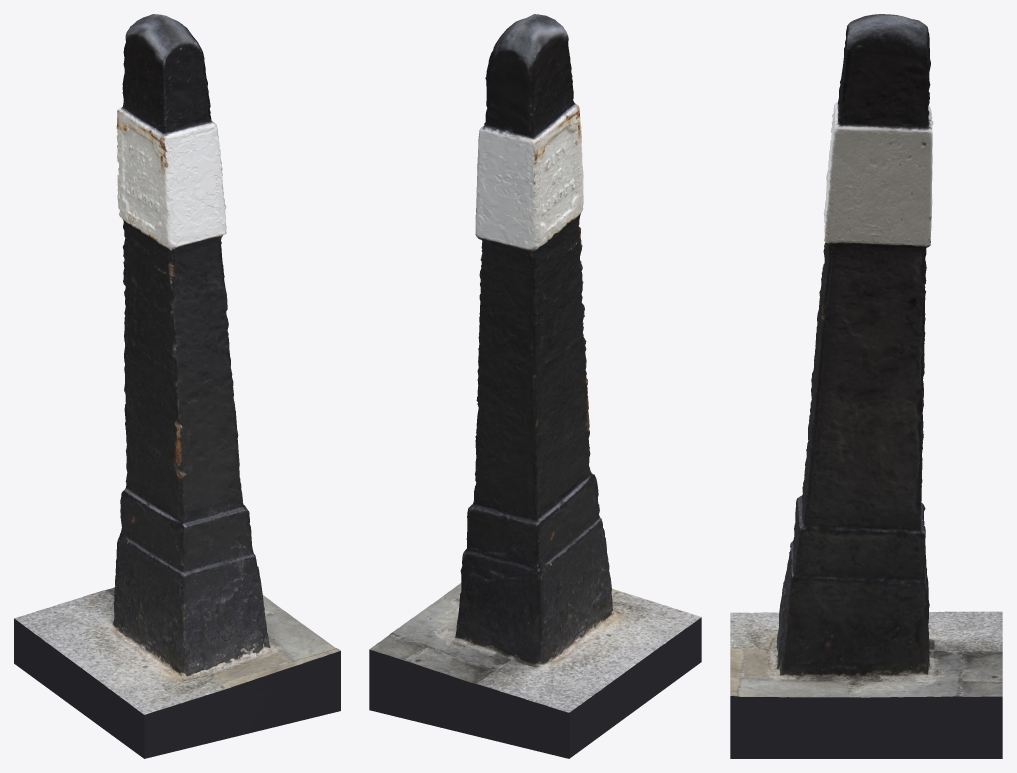
File: borne-3.glb
3 renders of one model, left to right at view 1: azimuth 30°, elevation 25°; view 2: azimuth 150°, elevation 25°; view 3: azimuth 270°, elevation 25°, orthographic. The views are drawn at different scales.
Visible parts, largest first — view 1: Object_3; view 2: Object_3; view 3: Object_3.
Boxes of the visible parts, <box> form: Object_3: <box>14,14,340,758</box>; Object_3: <box>369,14,701,758</box>; Object_3: <box>730,14,1002,758</box>.
Bounding box in the file's own units: 3.93 × 12.65 × 4.51.
1 material, 1 textured.
